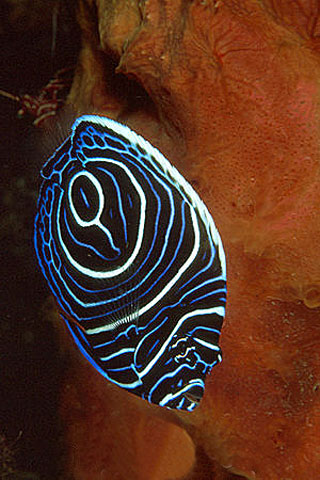Pomacanthus_imperator: (28, 102, 259, 420)
